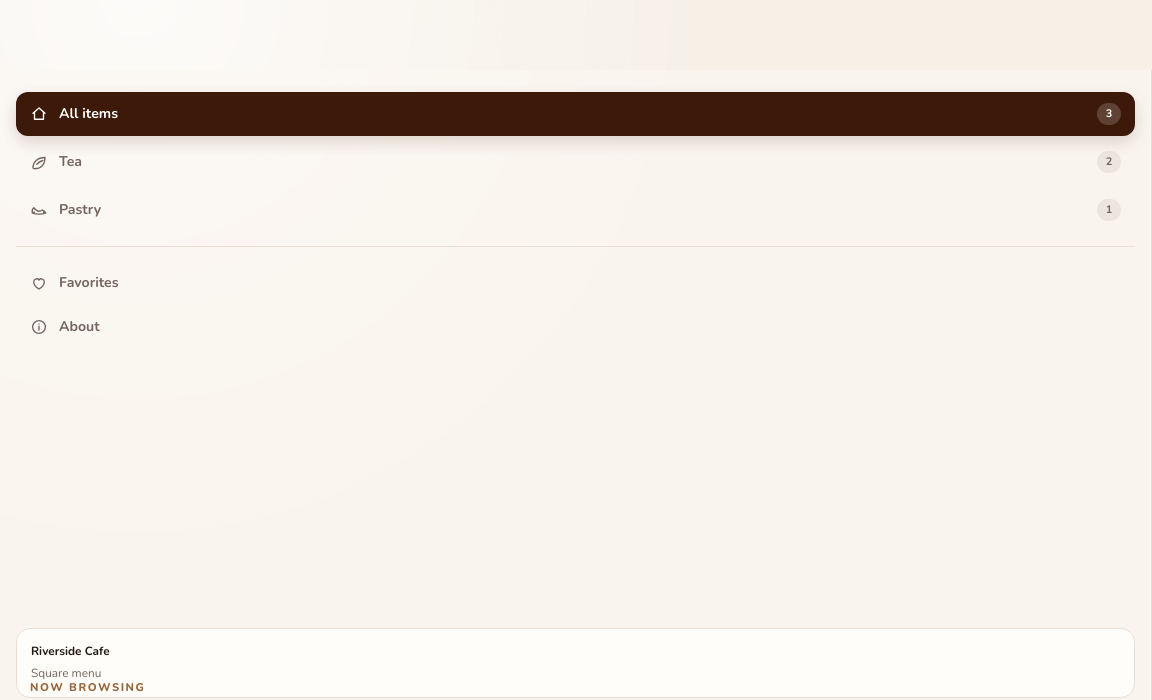
MenuCatalogView › swaps views instantly when reduced motion is requested
Click the button "Favorites". click: (89, 283)
box: [16,261,1135,305]
(page scrolled)
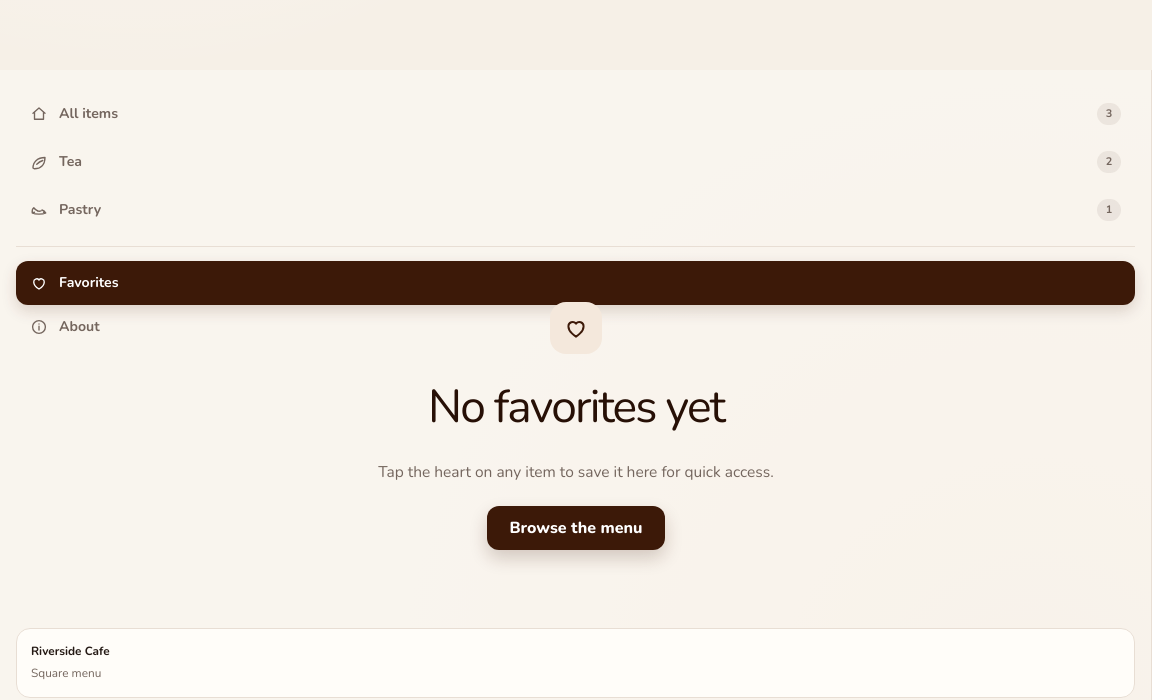
Check: the heading "No favorites yet" is shown, box [428,372,724,441]
